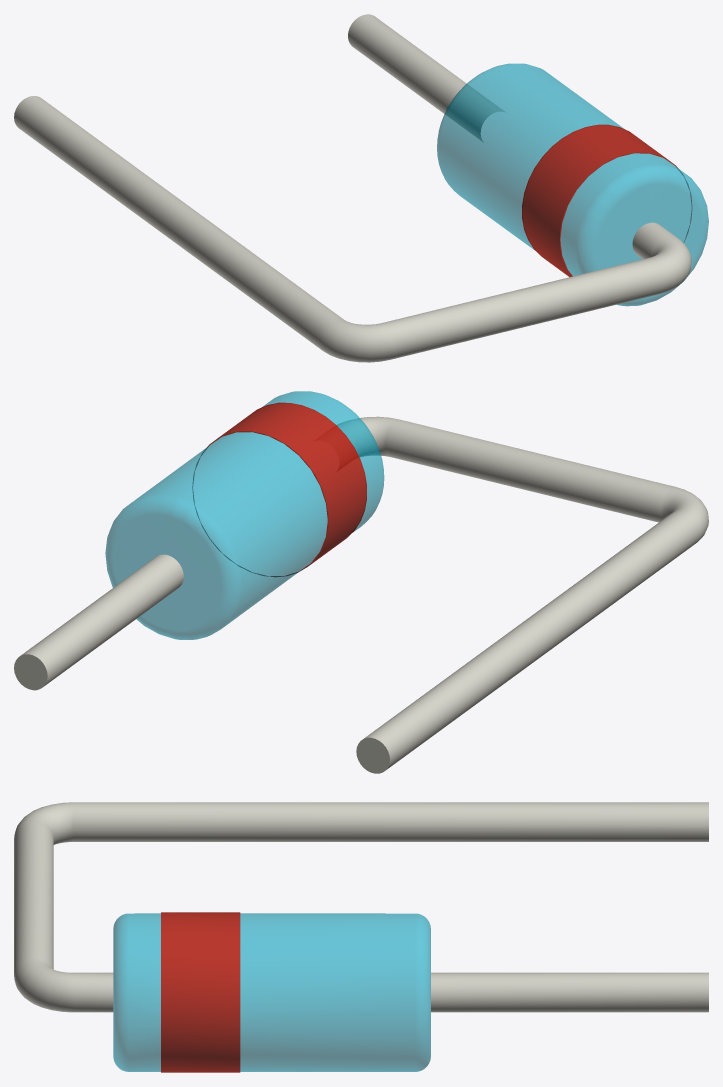
Rendered from d-do-35-sod27-p5.08-v-kathodeup.glb.
3 renders of one model, top to bottom at view 1: azimuth 30°, elevation 25°; view 2: azimuth 150°, elevation 25°; view 3: azimuth 270°, elevation 25°, orthographic. The views are drawn at different scales.
Visible parts, largest first — view 1: PIN-01, GLASS-13, LED-RED; view 2: PIN-01, GLASS-13, LED-RED; view 3: PIN-01, GLASS-13, LED-RED.
Boxes of the visible parts, x1,y1,x2,y2 form: PIN-01: [14, 14, 691, 362]; GLASS-13: [437, 63, 708, 306]; LED-RED: [522, 124, 691, 277]; PIN-01: [14, 416, 708, 773]; GLASS-13: [105, 391, 384, 639]; LED-RED: [192, 402, 366, 576]; PIN-01: [14, 802, 708, 1012]; GLASS-13: [113, 913, 430, 1071]; LED-RED: [161, 912, 240, 1072].
Bounding box in the file's own units: 6.34 × 2.02 × 8.75.
